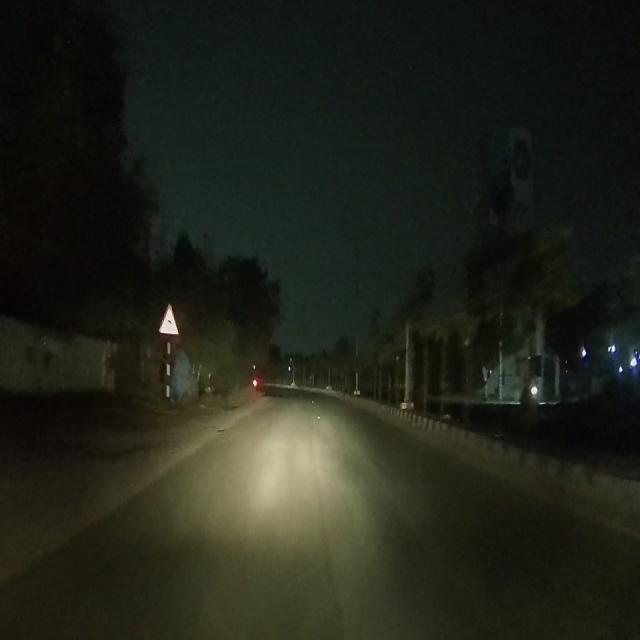left-hand-curve: (159, 305, 178, 336)
